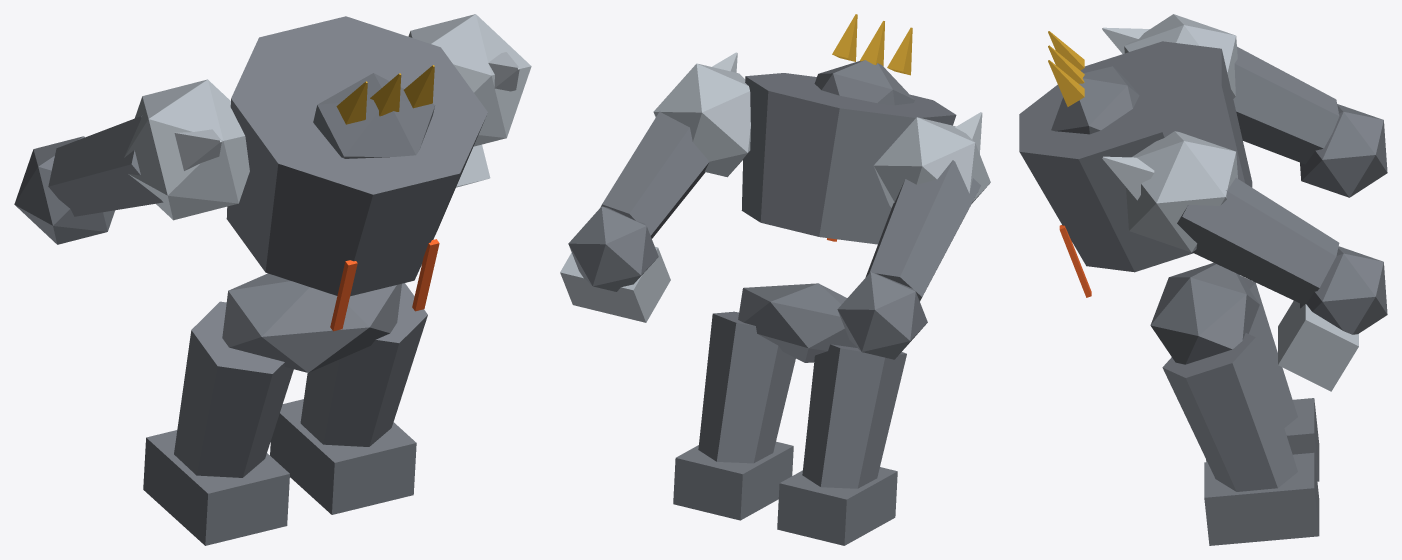
The model's file is npcpose_colossus_attack_06.glb.
3 views of the same model, side by side, from view 1: azimuth 30°, elevation 25°; view 2: azimuth 150°, elevation 25°; view 3: azimuth 270°, elevation 25° (orthographic). The views are drawn at different scales.
Visible parts, largest first — view 1: npcpose; view 2: npcpose; view 3: npcpose.
Boxes of the visible parts, bbox=[...] form: npcpose: bbox=[14, 14, 531, 545]; npcpose: bbox=[560, 14, 990, 545]; npcpose: bbox=[1019, 14, 1387, 545].
Size of the model in its own units: 2.3 by 2.63 by 1.93.
